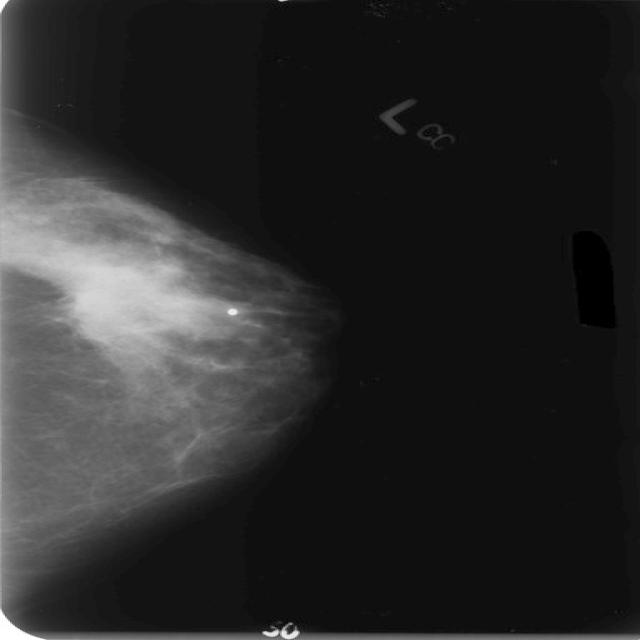tumour: (55, 284, 142, 334)
